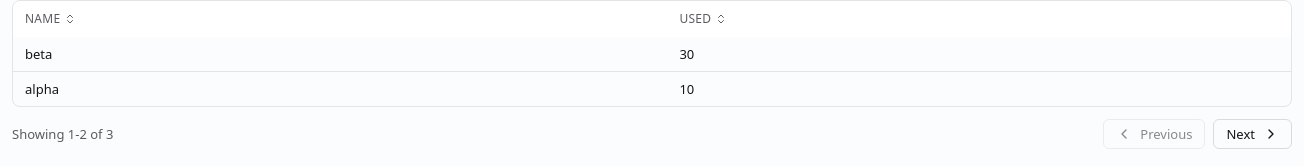
Scenario: DataTable › paginates with the footer controls
expect the text "Showing 1-2 of 3" is shown: met, box [12,125,113,143]
expect the text "gamma" is not shown: met
Click the button "Next" at coordinates (1253, 134), box [1214,119,1292,149]
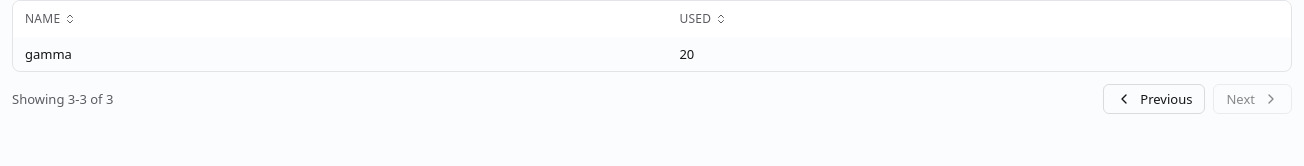
expect the text "gamma" is shown: met, box [13,37,667,71]
expect the text "Showing 3-3 of 3" is shown: met, box [12,90,113,108]
